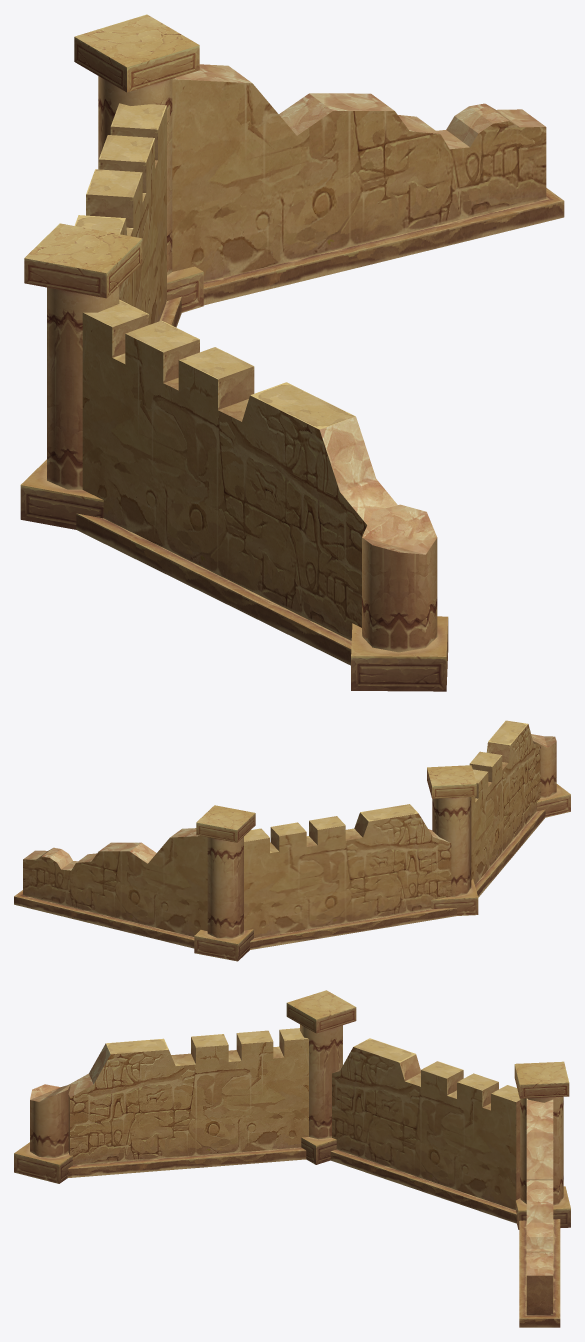
File: Area_11_20.fbx
3 views of the same model, one above another, from view 1: azimuth 30°, elevation 25°; view 2: azimuth 150°, elevation 25°; view 3: azimuth 270°, elevation 25° (orthographic). The views are drawn at different scales.
Visible parts, largest first — view 1: Area_11_20; view 2: Area_11_20; view 3: Area_11_20.
Part boxes in pixels (<box>): Area_11_20: <box>20,14,564,691</box>; Area_11_20: <box>14,720,570,961</box>; Area_11_20: <box>14,990,570,1327</box>.
Bounding box in the file's own units: 1179 × 409 × 1431.
